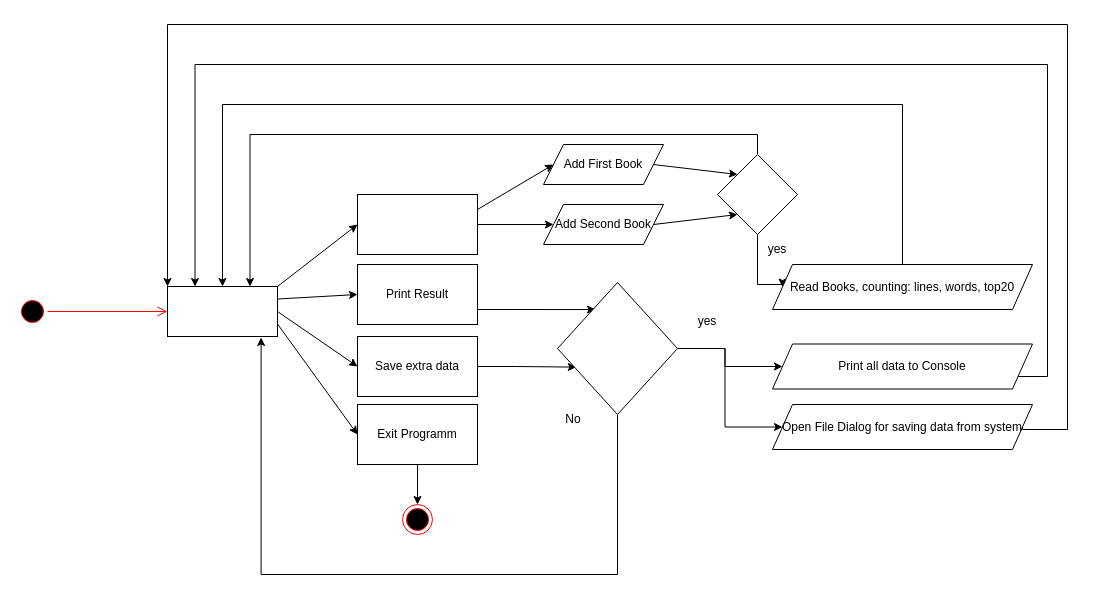
Some shapes in this 1093 by 600 pixel diagram are drawn without their labels. Each missing label, with the box of its shape:
Add Books: (356, 194, 478, 254)
Are already Books uploaded?: (556, 282, 678, 414)
Correct Upload ?: (716, 154, 798, 234)
Main Menu: (166, 286, 278, 336)
